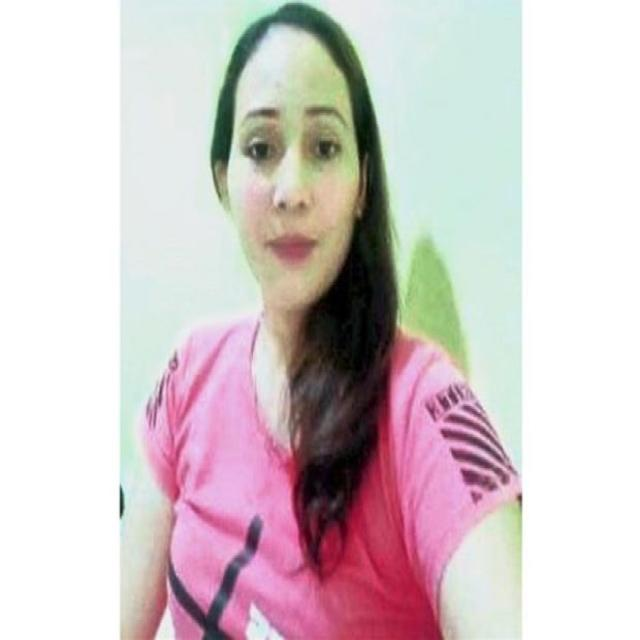human: (120, 6, 523, 640)
